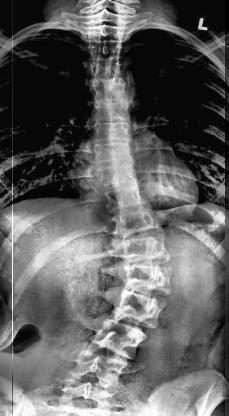Vertebrae: (90, 317, 150, 361), (70, 350, 128, 388), (114, 290, 166, 332), (118, 264, 174, 298), (121, 232, 174, 266), (112, 204, 164, 238), (104, 182, 149, 214), (97, 162, 141, 192), (91, 97, 135, 123), (94, 140, 136, 166), (92, 118, 132, 144), (90, 78, 132, 102), (88, 56, 126, 82), (87, 24, 126, 44), (88, 42, 124, 62)
